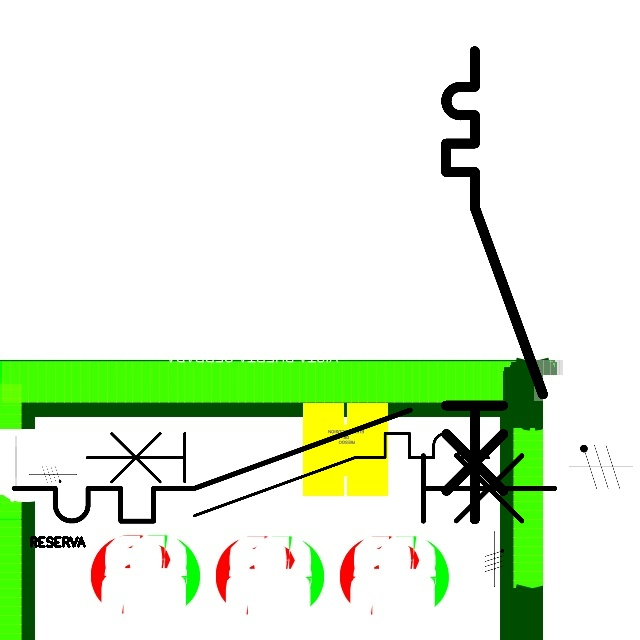interruptor_termomagnetico: (0, 396, 568, 535), (434, 39, 554, 532), (76, 423, 498, 526)
